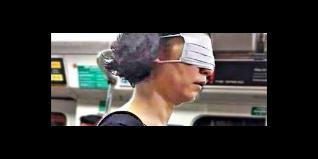mask_weared_incorrect: (173, 38, 217, 102)
